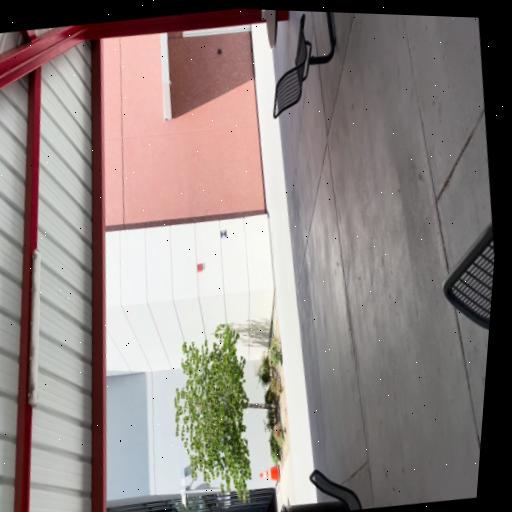target9: (220, 229, 228, 238)
